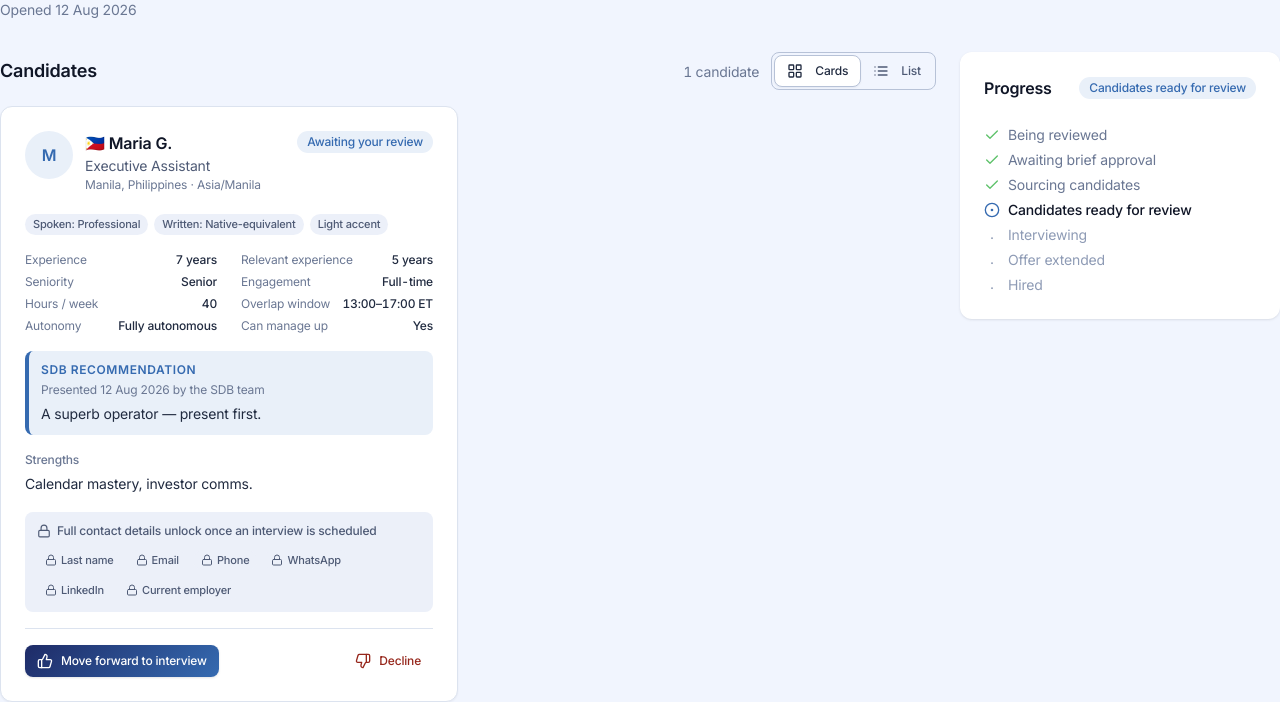
Scenario: client decisions › reject requires a structured reason before POSTing
(page scrolled)
Click the button "Decline": x=388, y=661 [343,645,433,677]
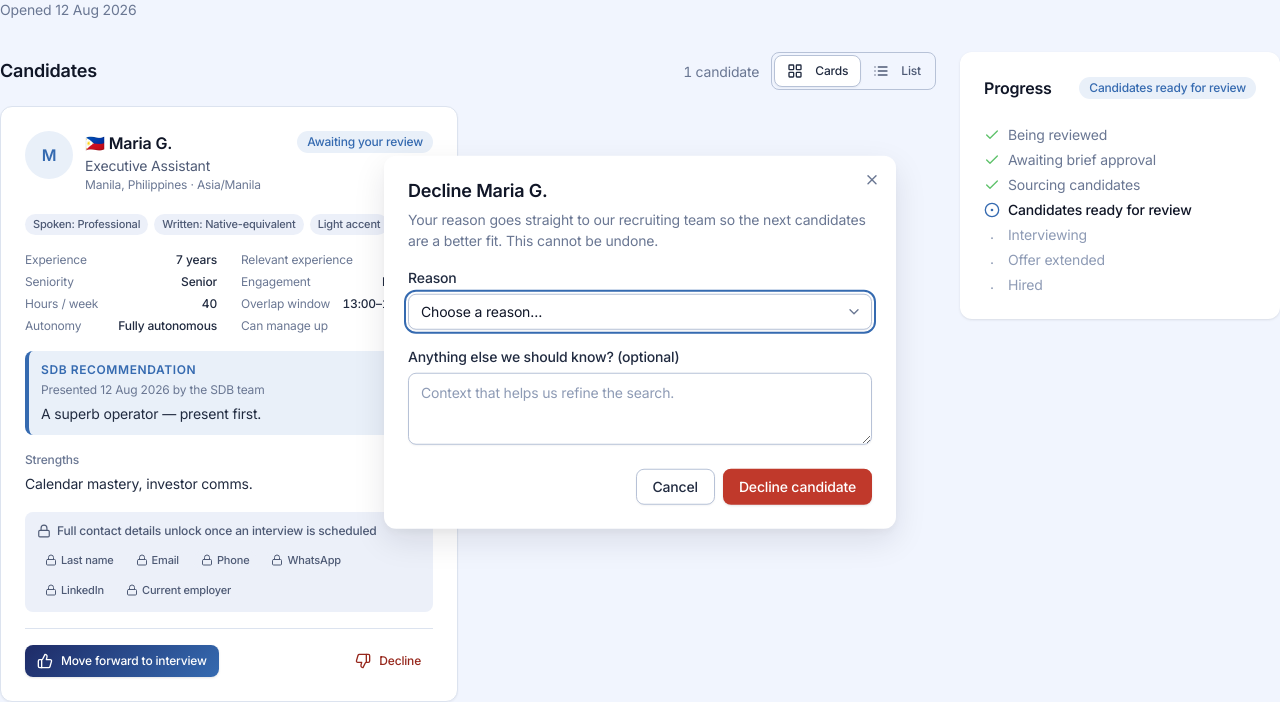
No reason chosen → validation, no request.
Click the button "Decline candidate": x=797, y=486 [723,468,872,504]
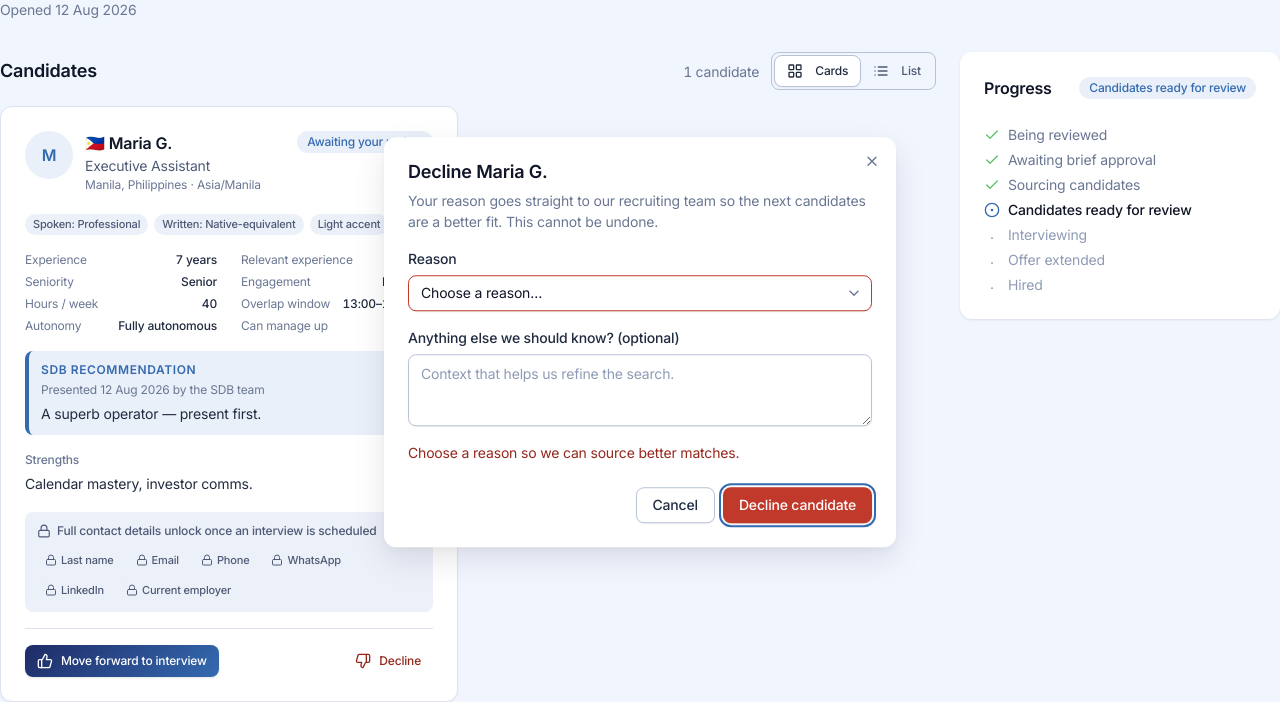
Expected: the message reads "Choose a reason so we can source better matches.", [408,444,739,461]
Select "Skills gap" in the dropdown labelled "Reason": x=640, y=293 [408,275,872,311]
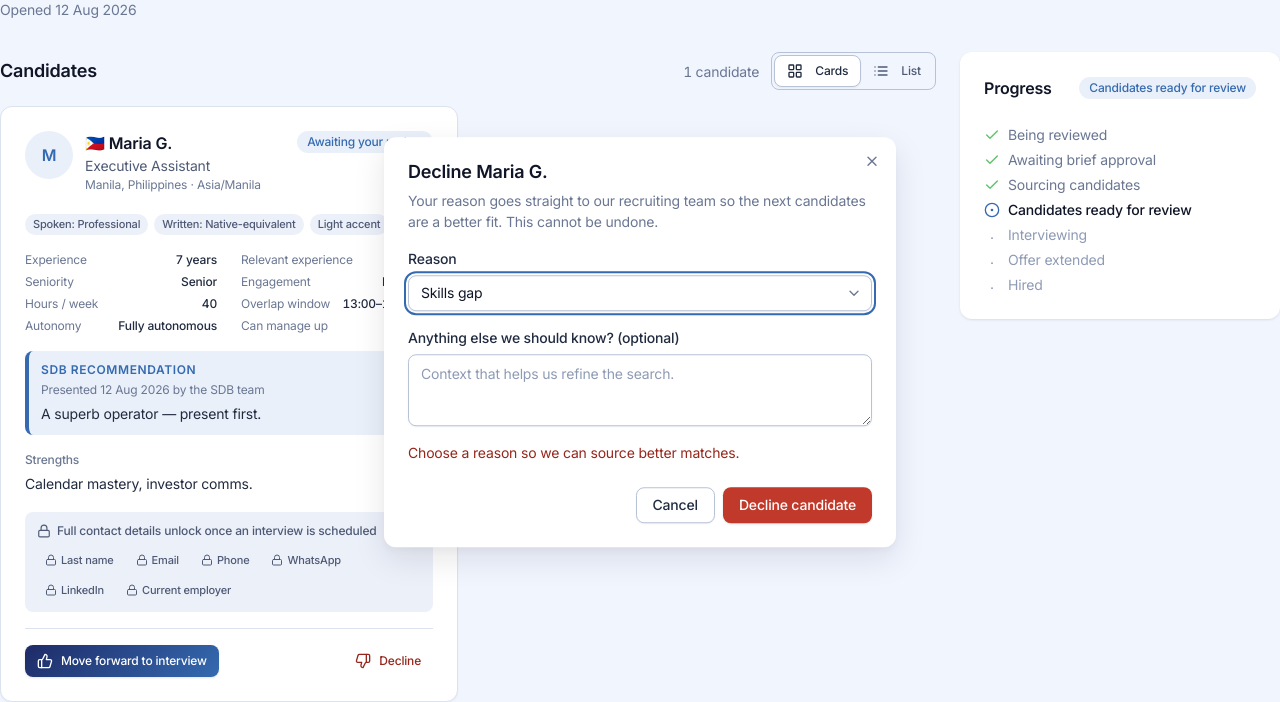
In the text box labelled "Anything else we should know? (optional)": x=640, y=390 [408,354,872,426], type "Needs stronger reporting skills."
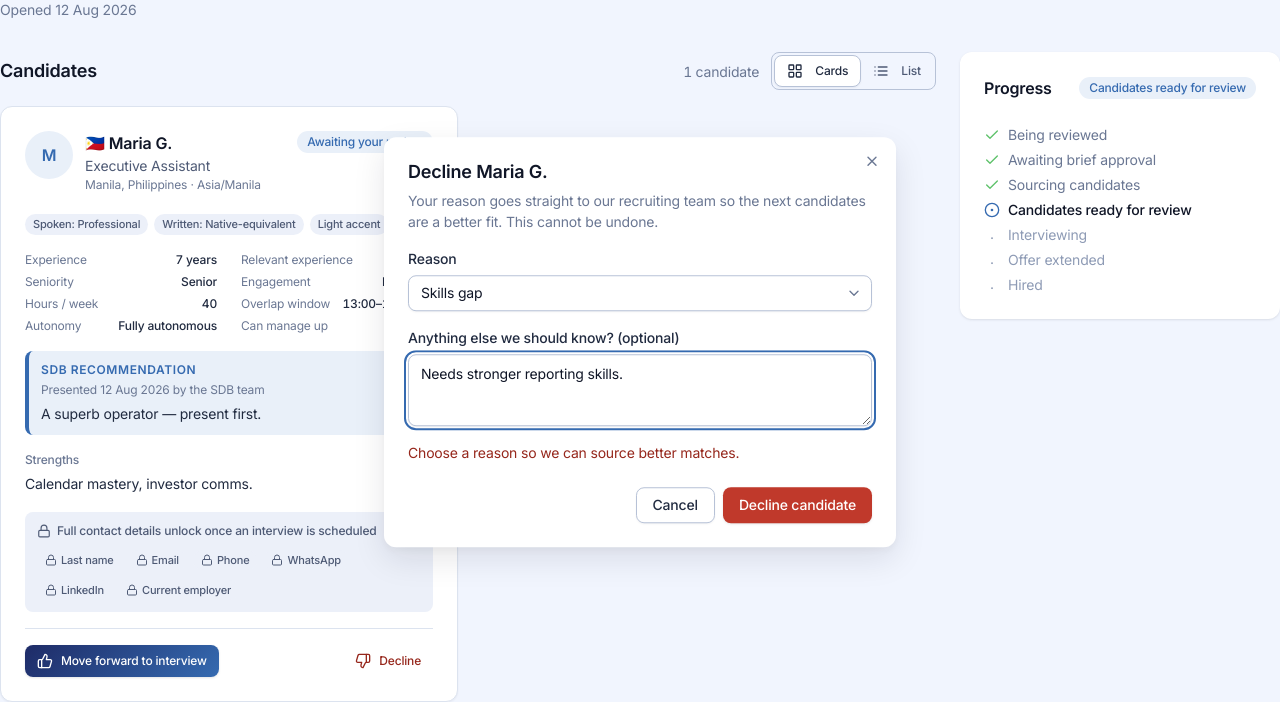
Click the button "Decline candidate": x=797, y=505 [723,487,872,523]
(page scrolled)
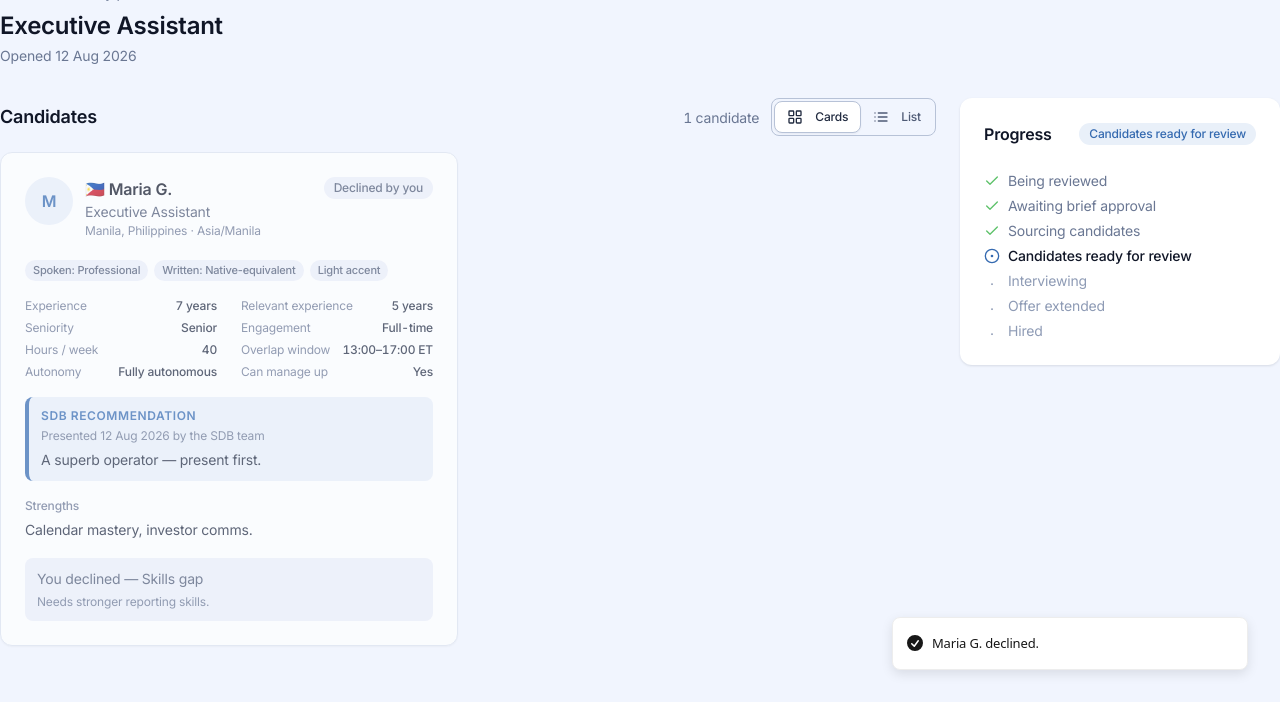
Expected: the text "You declined — Skills gap" is shown, [37,570,203,587]
Expected: the text "Needs stronger reporting skills." is shown, [37,594,209,609]
